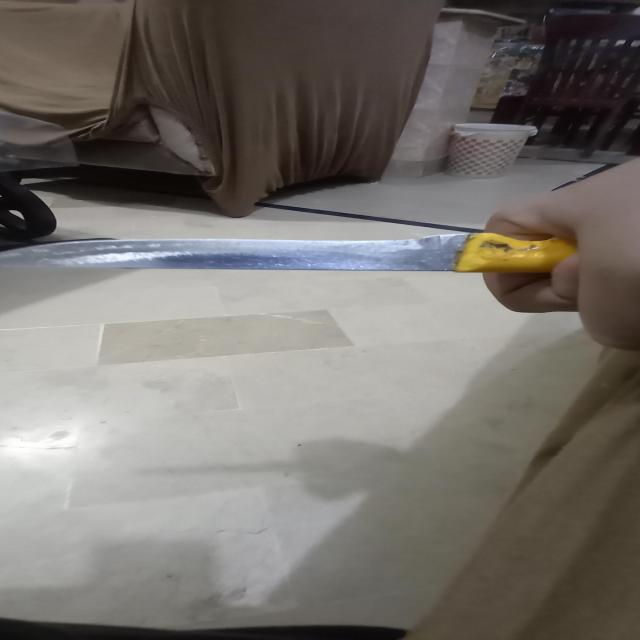Knife: (0, 233, 582, 272)
Person: (477, 158, 640, 349)
